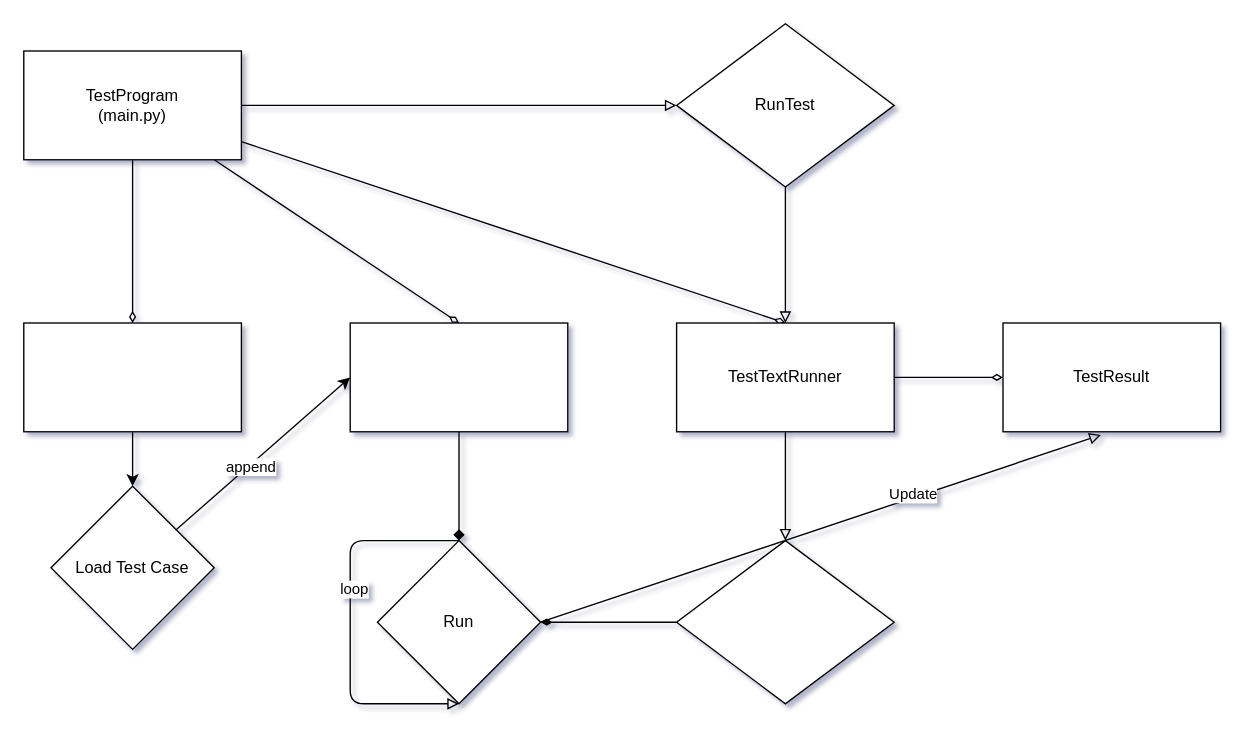
This 1253x747 diagram has some shape labels left out. Each missing label, with the centre of its shape:
"Run(TestCase)" belongs at [784,621].
"TestCase (suite)" belongs at [458,377].
"TestLoader" belongs at [131,377].
